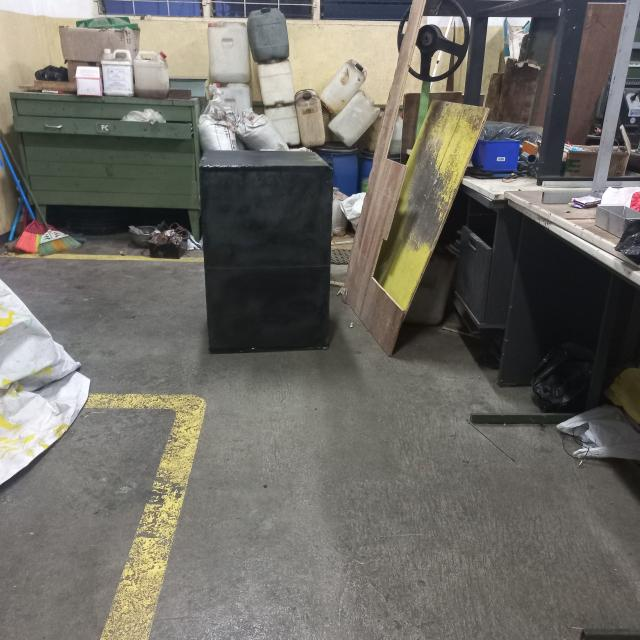obstacle: (198, 149, 334, 356)
